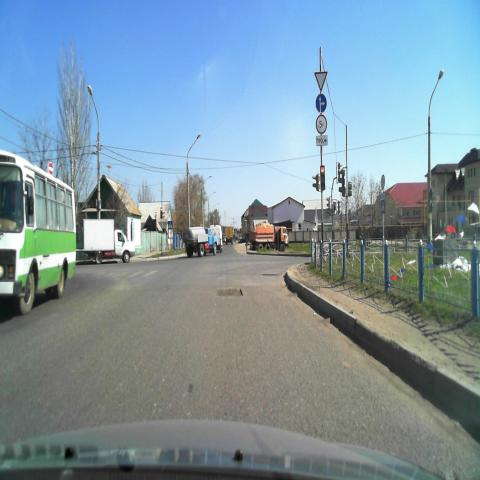3_11: (316, 115, 327, 134)
